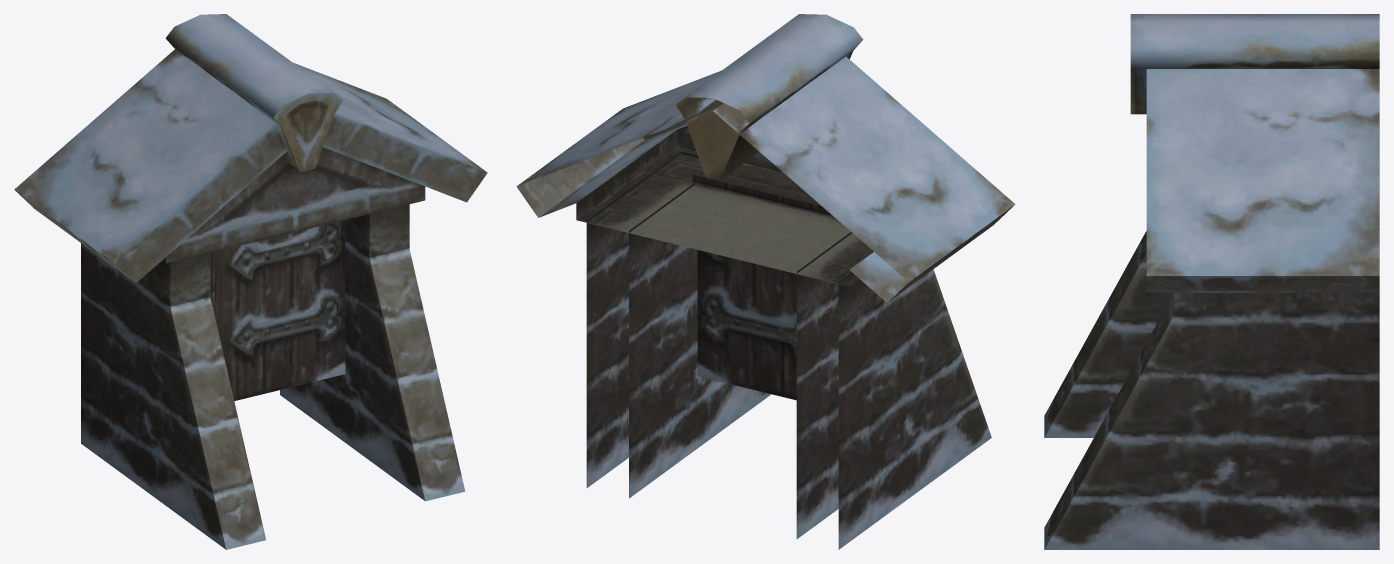
The model's file is rzjd_shimen_01.FBX.
3 views of the same model, side by side, from view 1: azimuth 30°, elevation 25°; view 2: azimuth 150°, elevation 25°; view 3: azimuth 270°, elevation 25° (orthographic). The views are drawn at different scales.
Parts seen in each view (by area): view 1: rzjd_shimen_01; view 2: rzjd_shimen_01; view 3: rzjd_shimen_01.
Part boxes in pixels (bbox=[...]): rzjd_shimen_01: bbox=[14, 14, 487, 549]; rzjd_shimen_01: bbox=[516, 14, 1015, 549]; rzjd_shimen_01: bbox=[1044, 14, 1379, 549].
Size of the model in its own units: 165 by 112 by 169.
